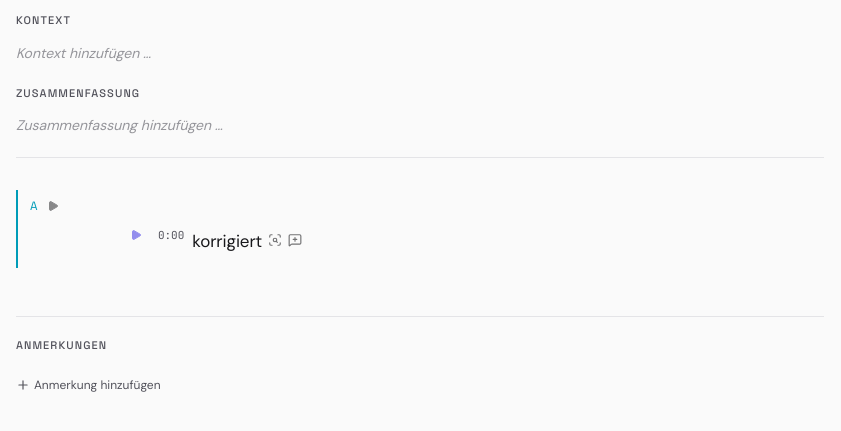
Transcript — lange Dokumente › erzeugt Roh-Wörter einer korrigierten Fassung erst beim Öffnen
Click the button titled "Roh-Wörter anzeigen". click: click(275, 239)
box: [268, 227, 282, 251]
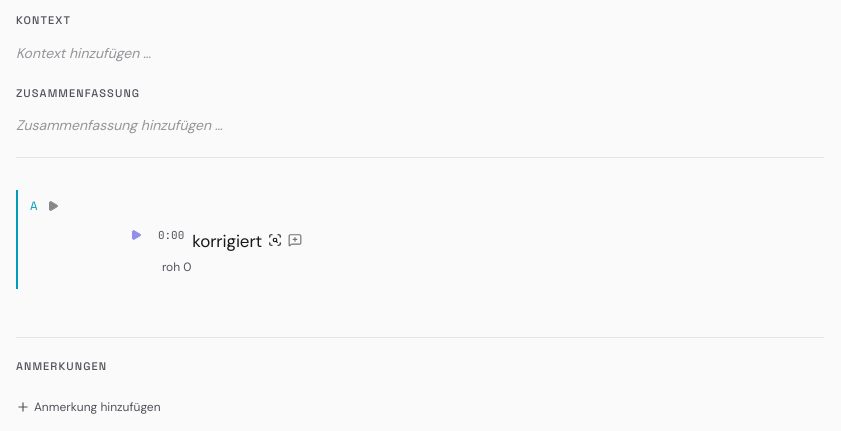
Now the text "roh 0" is shown, box [162, 259, 192, 275]
